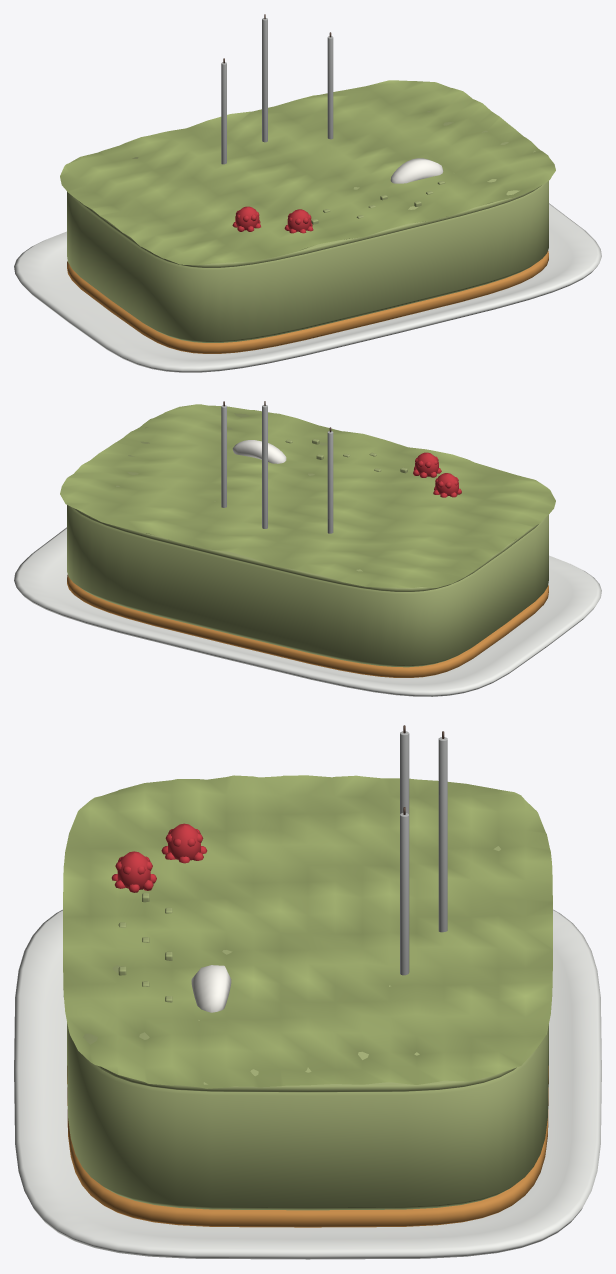
File: cake-23.bc834fa95459.glb
The picture shows the model from 3 angles, top to bottom: view 1: azimuth 30°, elevation 25°; view 2: azimuth 150°, elevation 25°; view 3: azimuth 270°, elevation 25°; orthographic projection. The views are drawn at different scales.
Parts seen in each view (by area): view 1: Irregular_hand_spread_food_surface, PART_FOOD_ROOT_MAT_pistachio, Clean_porcelain_plate, Thin_sponge_foundation, PART_FOOD_ROOT_MAT_strawberry, Short_soft_white_cream, Fine_silver_stick_1, Fine_silver_stick_2, Fine_silver_stick_0; view 2: Irregular_hand_spread_food_surface, PART_FOOD_ROOT_MAT_pistachio, Clean_porcelain_plate, Thin_sponge_foundation, PART_FOOD_ROOT_MAT_strawberry, Fine_silver_stick_1, Short_soft_white_cream, Fine_silver_stick_0, Fine_silver_stick_2; view 3: Irregular_hand_spread_food_surface, PART_FOOD_ROOT_MAT_pistachio, Clean_porcelain_plate, Thin_sponge_foundation, PART_FOOD_ROOT_MAT_strawberry, Fine_silver_stick_1, Fine_silver_stick_2, Short_soft_white_cream, Fine_silver_stick_0.
Part boxes in pixels (<box>): Irregular_hand_spread_food_surface: <box>60,80,555,265</box>; PART_FOOD_ROOT_MAT_pistachio: <box>67,111,548,342</box>; Clean_porcelain_plate: <box>14,203,601,372</box>; Thin_sponge_foundation: <box>67,250,548,353</box>; PART_FOOD_ROOT_MAT_strawberry: <box>232,206,313,233</box>; Short_soft_white_cream: <box>390,158,443,183</box>; Fine_silver_stick_1: <box>262,18,267,142</box>; Fine_silver_stick_2: <box>327,36,333,139</box>; Fine_silver_stick_0: <box>221,62,226,164</box>; Irregular_hand_spread_food_surface: <box>60,404,555,587</box>; PART_FOOD_ROOT_MAT_pistachio: <box>67,413,548,667</box>; Clean_porcelain_plate: <box>14,527,601,696</box>; Thin_sponge_foundation: <box>67,574,548,677</box>; PART_FOOD_ROOT_MAT_strawberry: <box>413,452,461,497</box>; Fine_silver_stick_1: <box>262,405,267,528</box>; Short_soft_white_cream: <box>232,440,286,463</box>; Fine_silver_stick_0: <box>327,431,333,533</box>; Fine_silver_stick_2: <box>221,405,226,507</box>; Irregular_hand_spread_food_surface: <box>63,775,552,1088</box>; PART_FOOD_ROOT_MAT_pistachio: <box>67,846,548,1210</box>; Clean_porcelain_plate: <box>14,909,601,1259</box>; Thin_sponge_foundation: <box>67,1066,548,1227</box>; PART_FOOD_ROOT_MAT_strawberry: <box>111,823,207,892</box>; Fine_silver_stick_1: <box>438,737,447,932</box>; Fine_silver_stick_2: <box>400,813,409,975</box>; Short_soft_white_cream: <box>191,965,231,1012</box>; Fine_silver_stick_0: <box>400,731,409,814</box>.
Bounding box in the file's own units: 0.2264 × 0.1019 × 0.1523.
